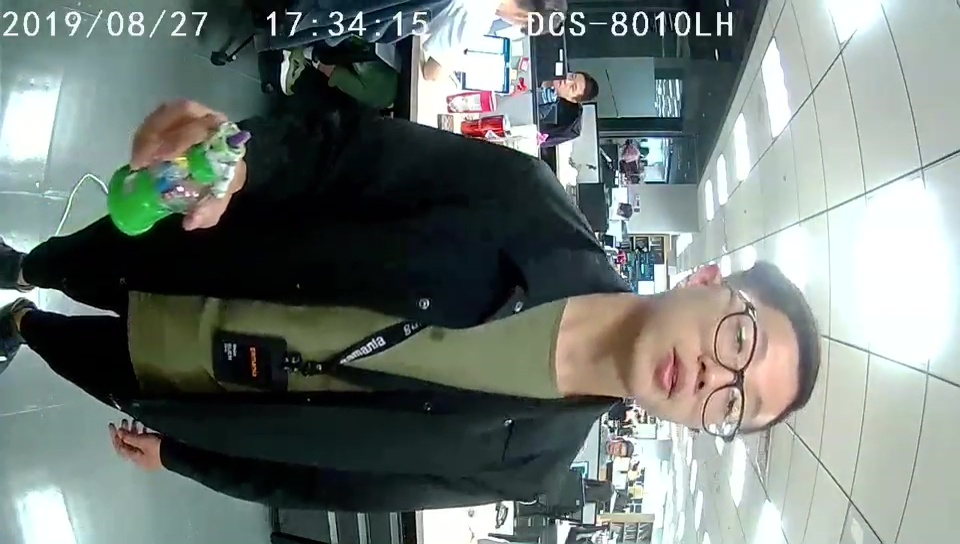buzz: (106, 117, 251, 239)
